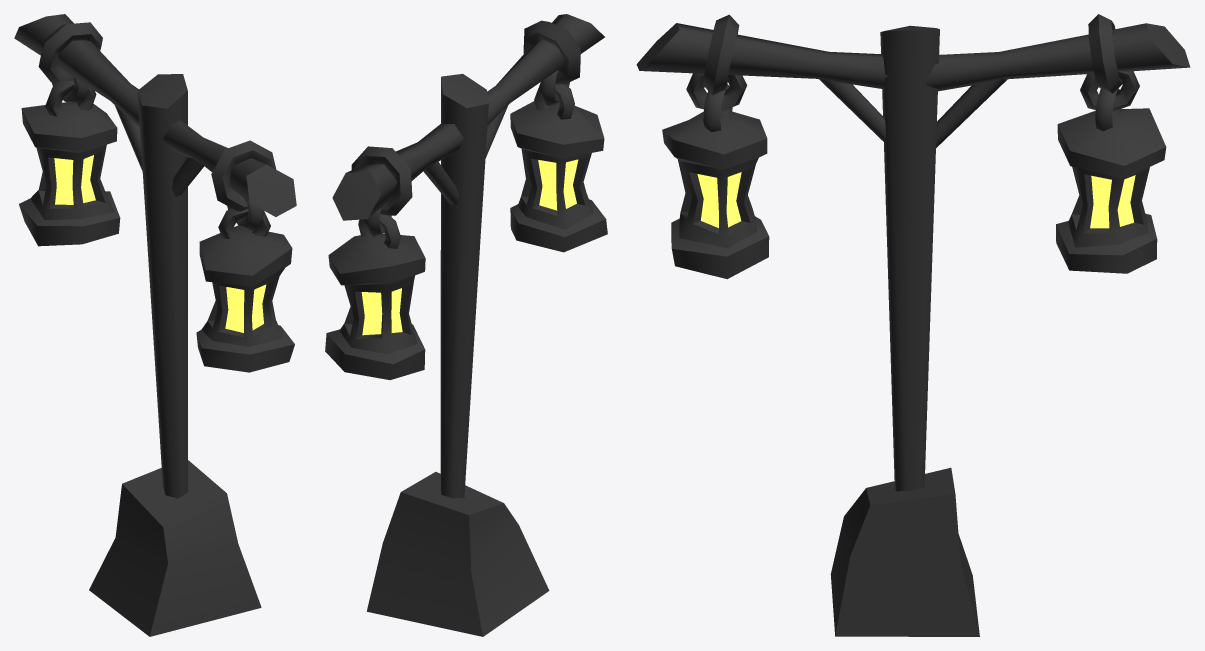
The model's file is SM_PROP_streetlamp_v01_04.FBX.
The picture shows the model from 3 angles, left to right: view 1: azimuth 30°, elevation 25°; view 2: azimuth 150°, elevation 25°; view 3: azimuth 270°, elevation 25°; orthographic projection. The views are drawn at different scales.
Parts seen in each view (by area): view 1: SM_PROP_streetlamp_v01_04; view 2: SM_PROP_streetlamp_v01_04; view 3: SM_PROP_streetlamp_v01_04.
Part boxes in pixels (bbox=[...]): SM_PROP_streetlamp_v01_04: bbox=[14, 14, 296, 636]; SM_PROP_streetlamp_v01_04: bbox=[325, 14, 607, 636]; SM_PROP_streetlamp_v01_04: bbox=[636, 14, 1190, 636].
Size of the model in its own units: 87.83 by 322 by 374.
